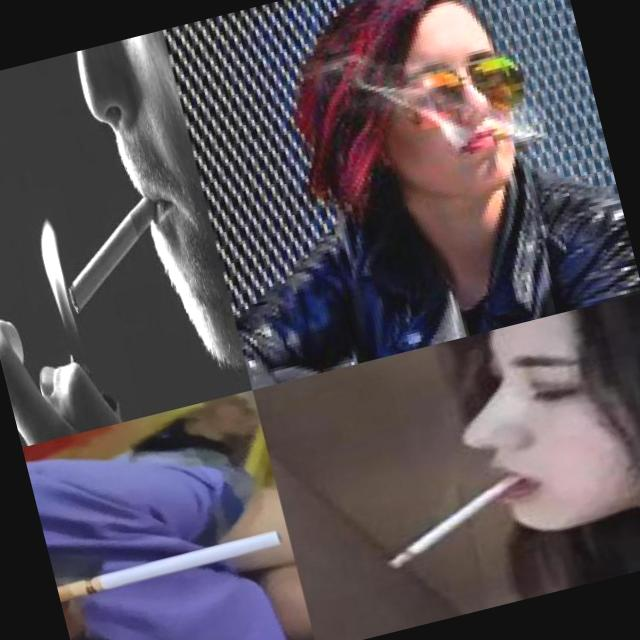smoke: (354, 456, 564, 580), (49, 186, 182, 316), (57, 530, 280, 604), (488, 118, 546, 152)
